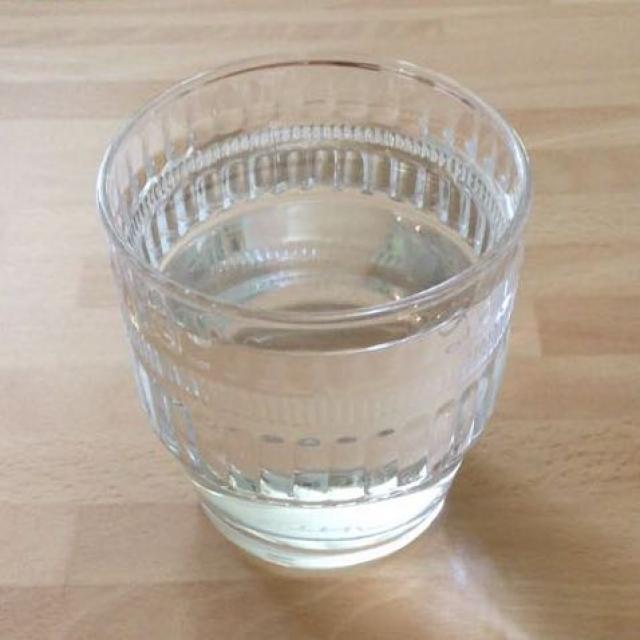water: (136, 180, 505, 551)
